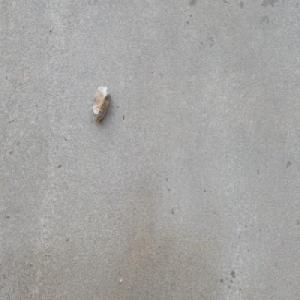Rock: (91, 84, 110, 123)
